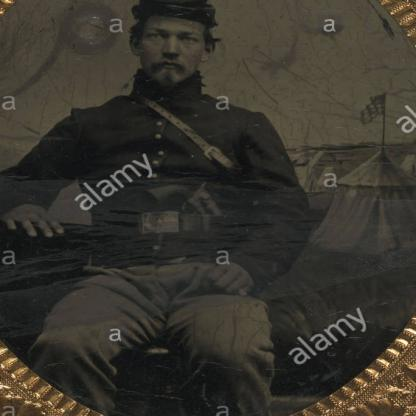gun: (139, 179, 234, 221)
